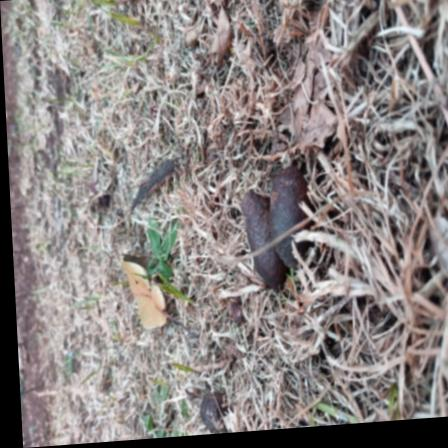dog-poop: (230, 160, 312, 302)
